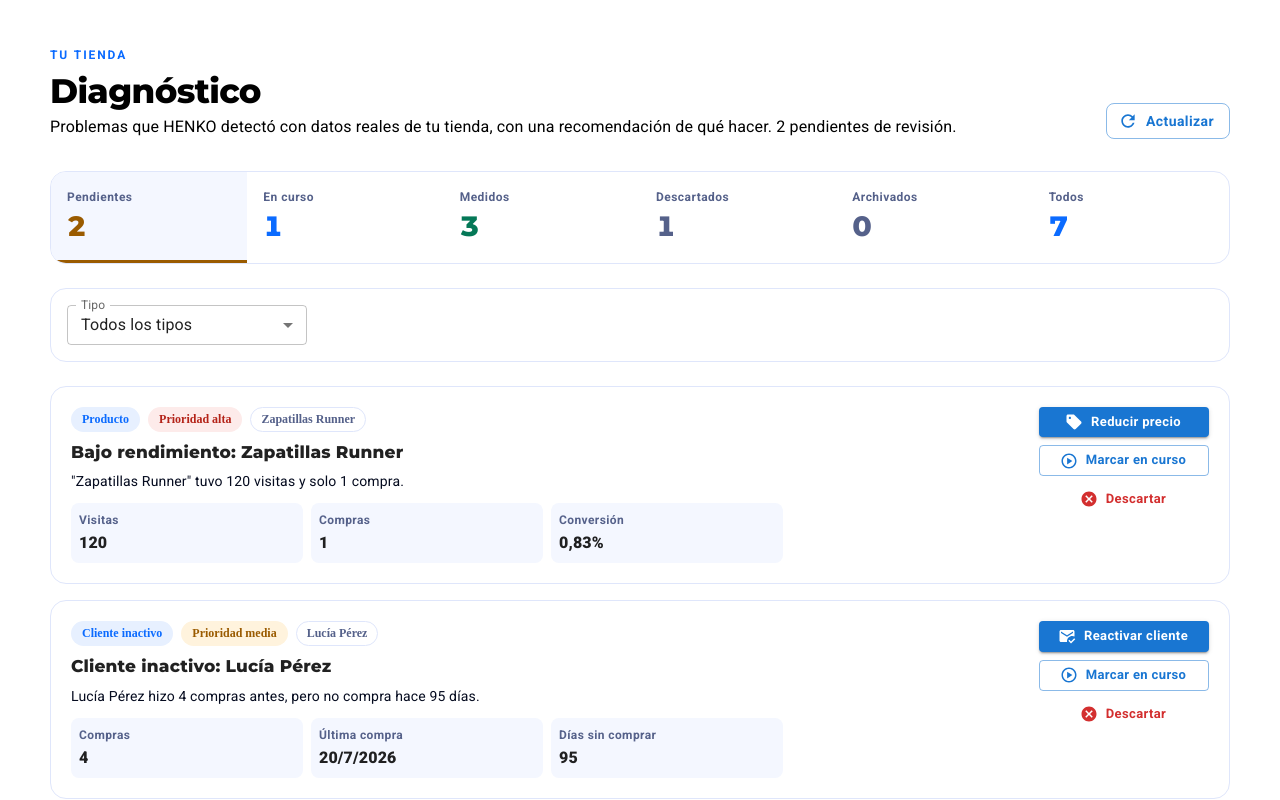
Scenario: Diagnóstico · acciones según el estado › marcar en curso manda el id y avisa
The image size is (1280, 800).
Step 1. Click the button "Marcar en curso" in the row of "Bajo rendimiento: Zapatillas Runner" → (1124, 461), box [1039,445,1209,476]
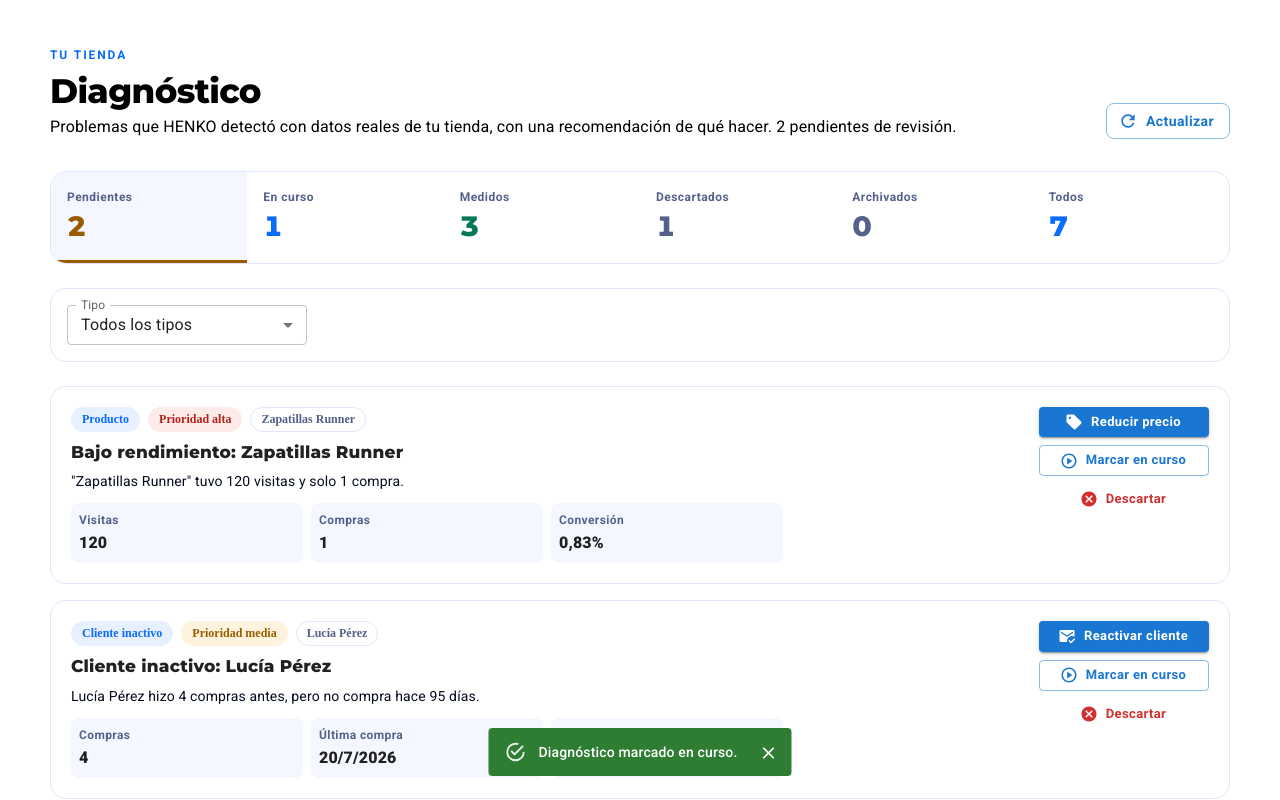
Check: the text "Diagnóstico marcado en curso." is shown, box [538,744,738,760]
